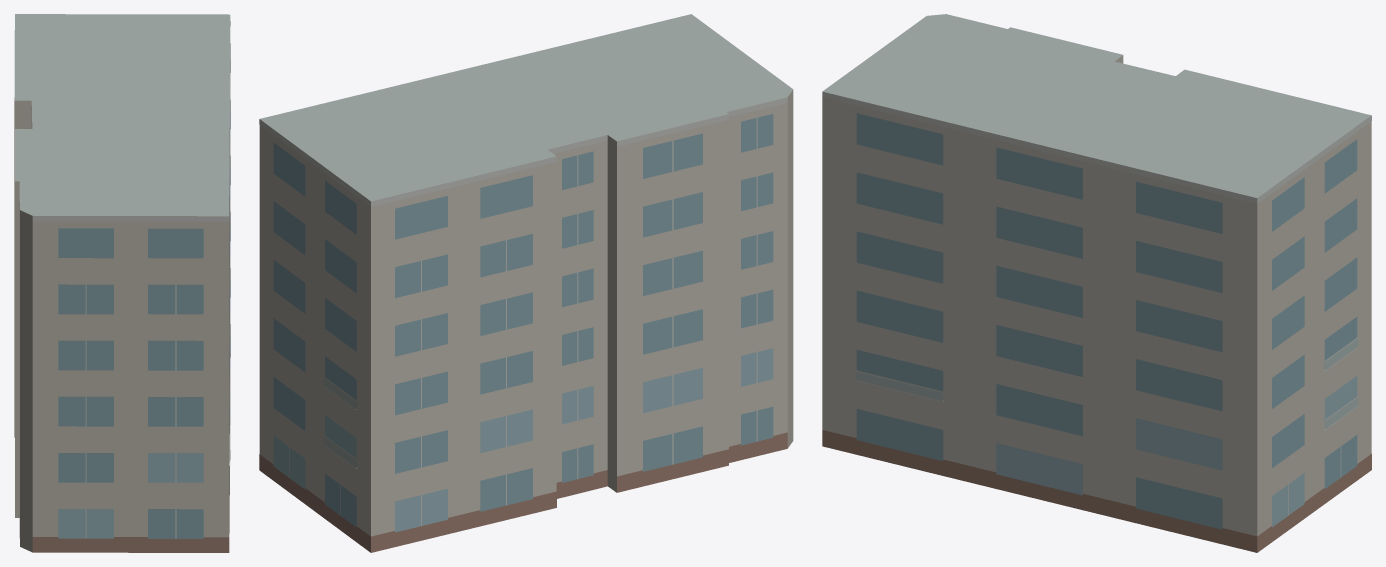
File: survey-upis-32671070.glb
3 views of the same model, side by side, from view 1: azimuth 30°, elevation 25°; view 2: azimuth 150°, elevation 25°; view 3: azimuth 270°, elevation 25° (orthographic). The views are drawn at different scales.
Parts seen in each view (by area): view 1: survey-upis-32671070.tmp; view 2: survey-upis-32671070.tmp; view 3: survey-upis-32671070.tmp.
Part boxes in pixels (x1=…): survey-upis-32671070.tmp: x1=14, y1=14, x2=230, y2=552; survey-upis-32671070.tmp: x1=259, y1=14, x2=793, y2=552; survey-upis-32671070.tmp: x1=822, y1=14, x2=1371, y2=552.
Bounding box in the file's own units: 16.82 × 15.1 × 21.21.
